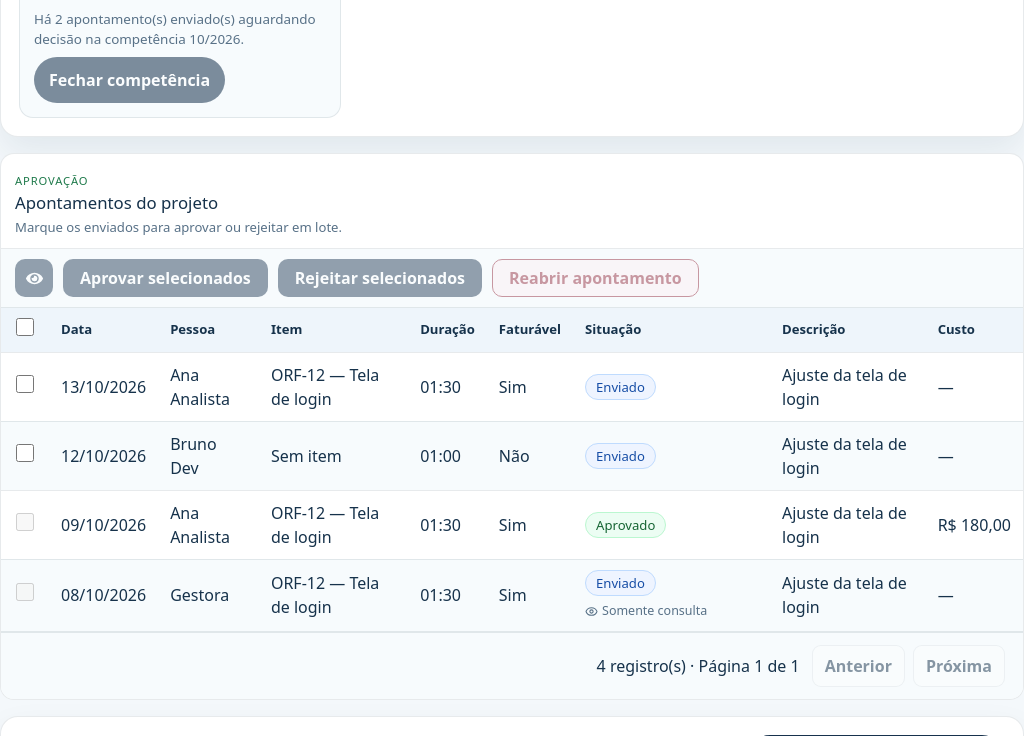
Test: Horas do projeto › rejeita com motivo obrigatório que a pessoa vê depois
(page scrolled)
Check: the heading "Apontamentos do projeto" is shown, box [15,191,218,214]
Click the checkbox named "Selecionar apontamento de Ana Analista em 13/10/2026" at (25, 384), box [16,375,34,393]
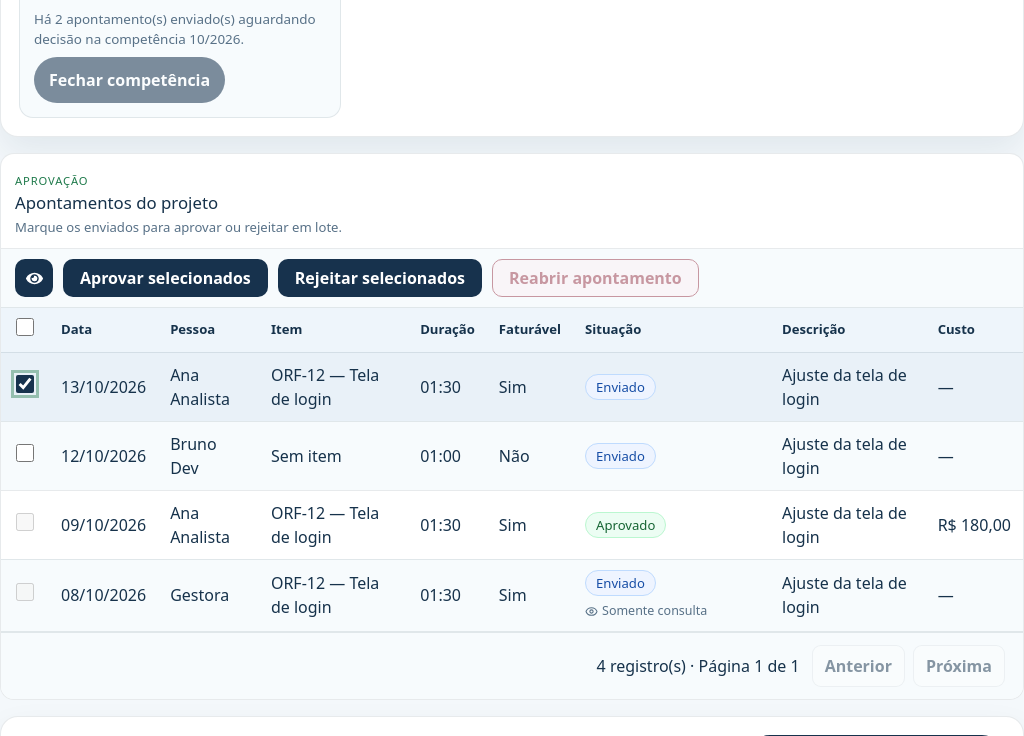
Click the button "Rejeitar selecionados" at (380, 278), box [278,259,482,297]
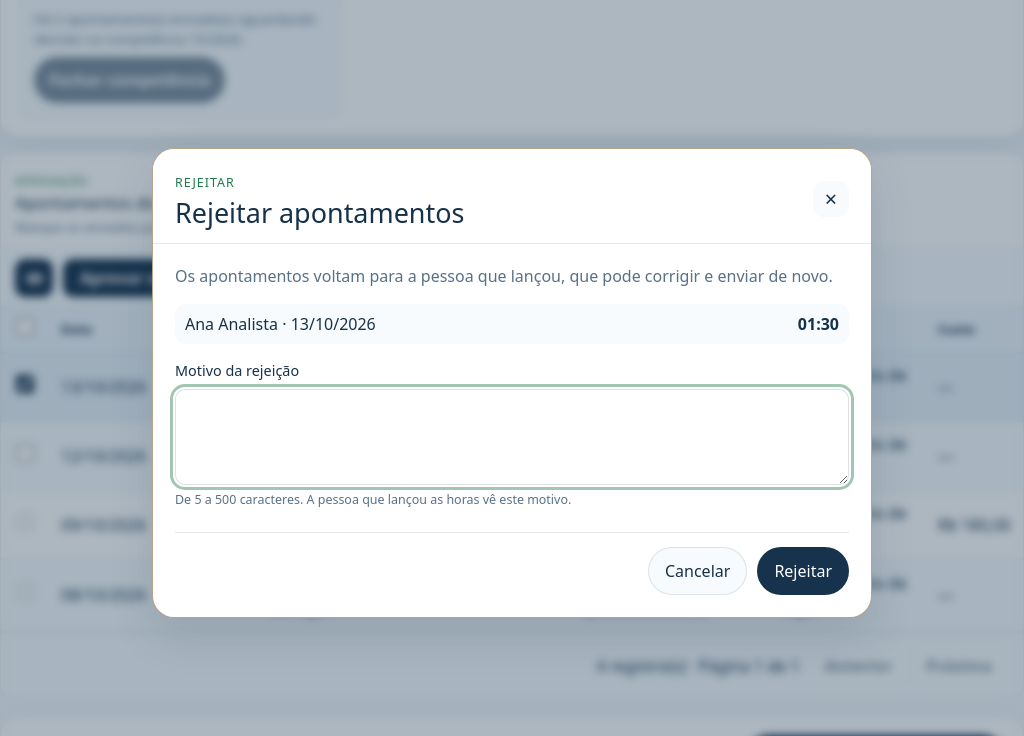
Check: the list item "Ana Analista · 13/10/2026" shows "01:30", box [798,313,839,335]
Type "abc" into the text box labelled "Motivo da rejeição" at (512, 436), box [175,388,849,484]
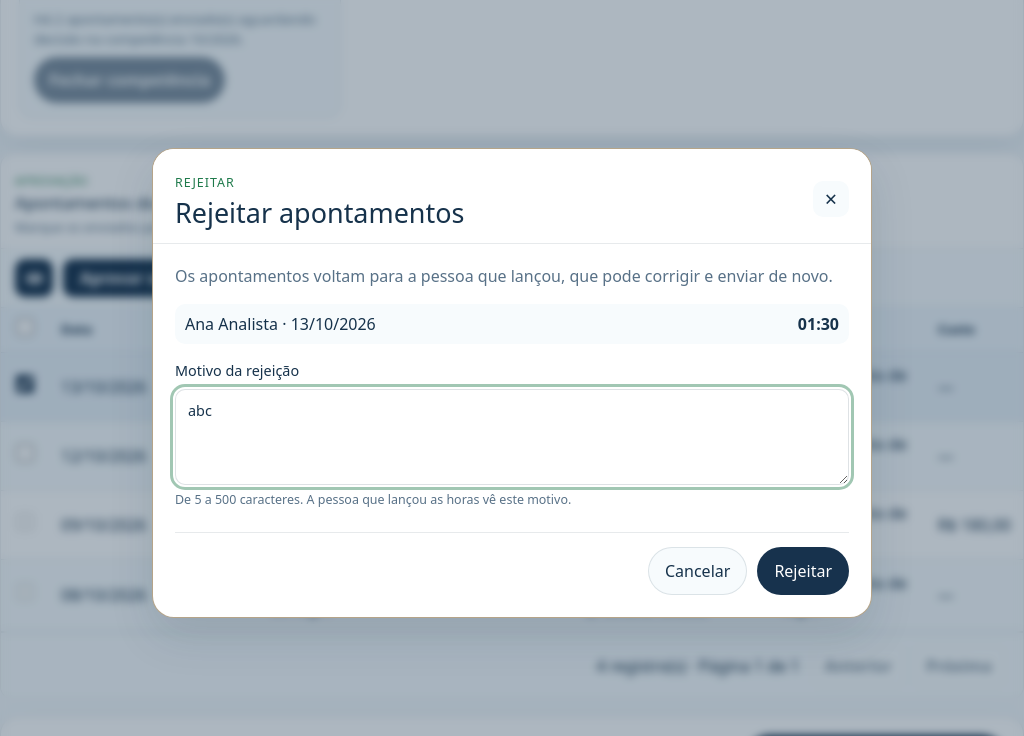
Click the button "Rejeitar" at (803, 571), box [757,547,849,595]
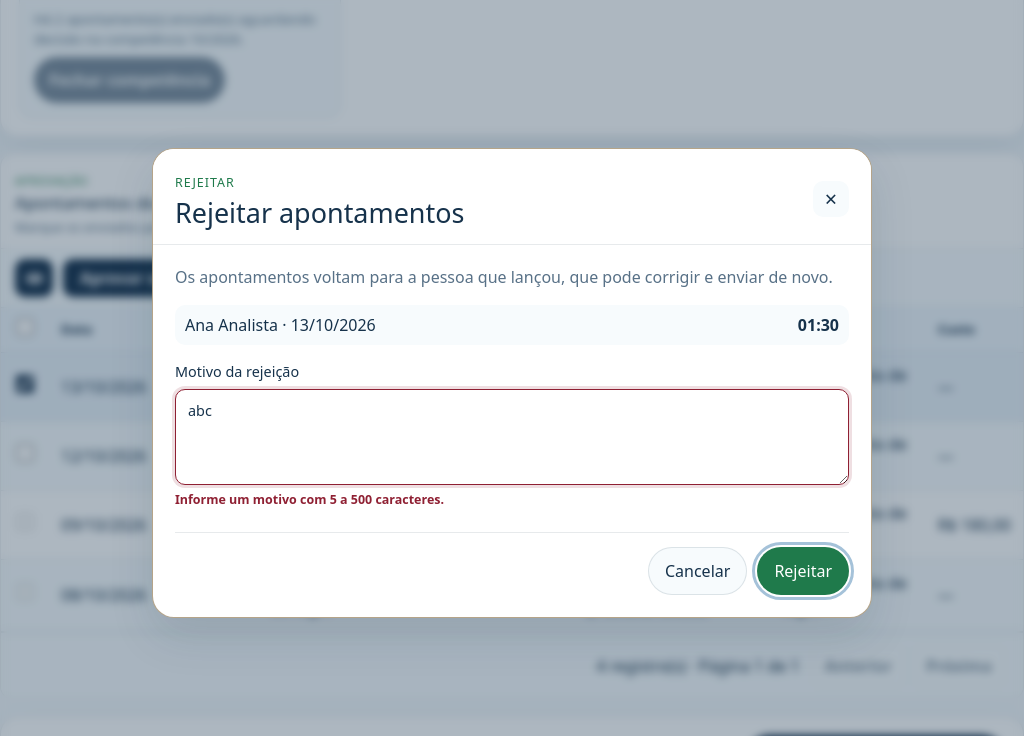
Check: the message reads "Informe um motivo com 5 a 500 caracteres.", box [175,491,444,508]
Type " — detalhe a tarefa realizada." into the text box labelled "Motivo da rejeição Informe um motivo com 5 a 500 caracteres." at (512, 437), box [175,389,849,485]
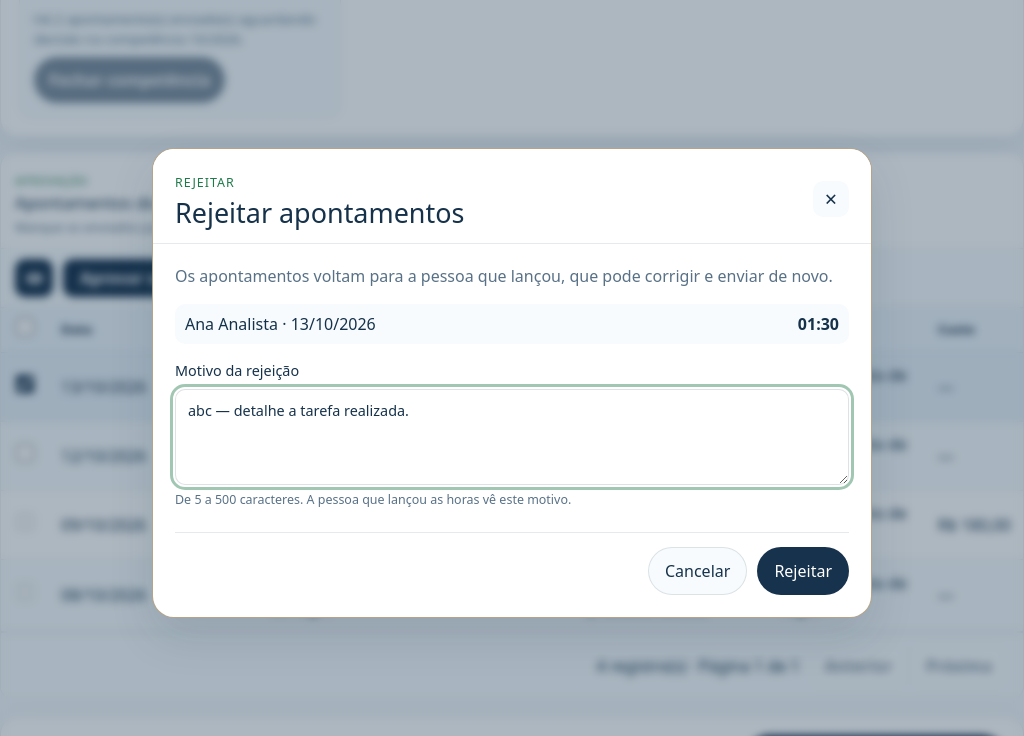
Click the button "Rejeitar" at (803, 571), box [757,547,849,595]
(page scrolled)
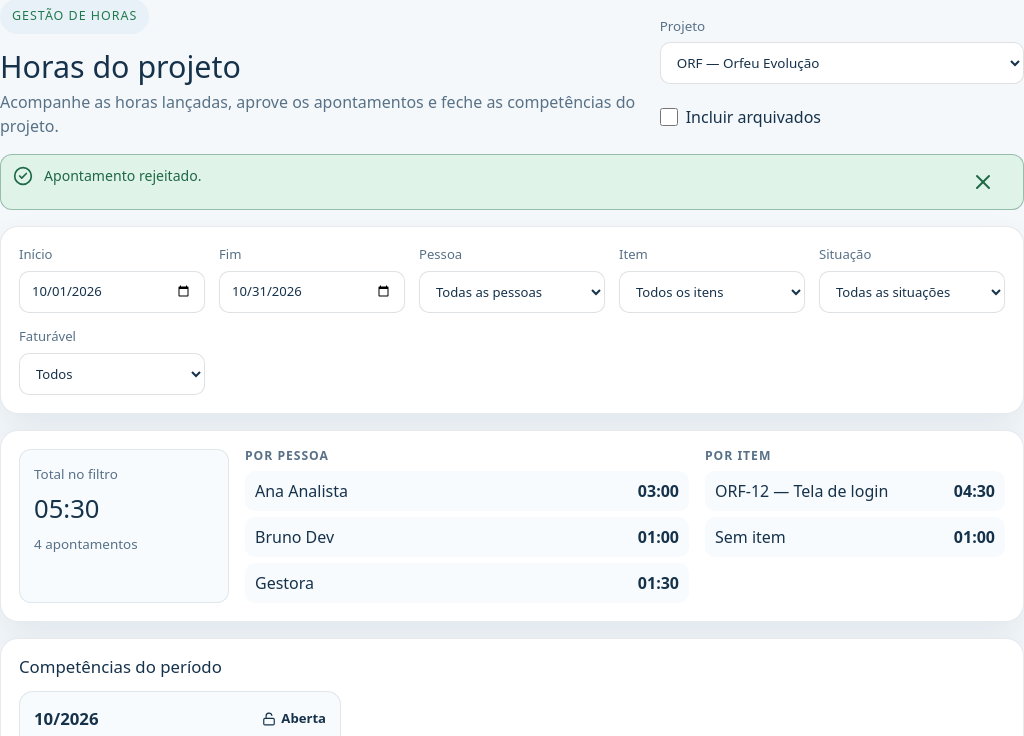
Check: the text "Apontamento rejeitado." is shown, box [44,166,202,185]
Check: the dialog is gone
